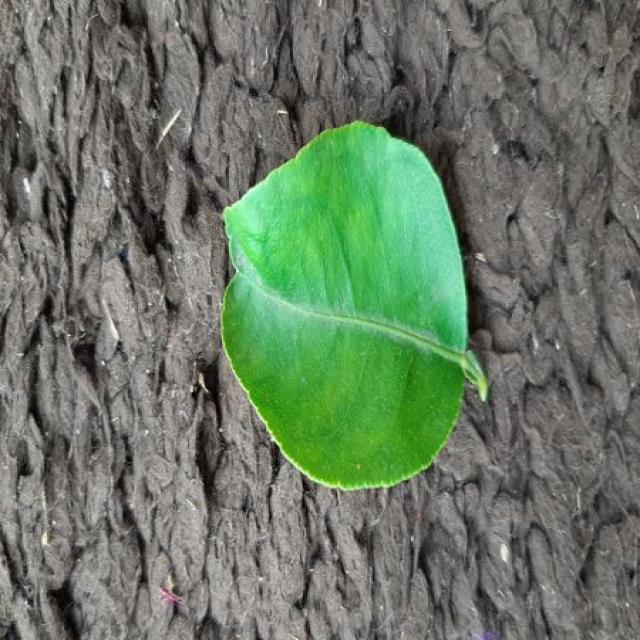lemon: (222, 121, 488, 489)
